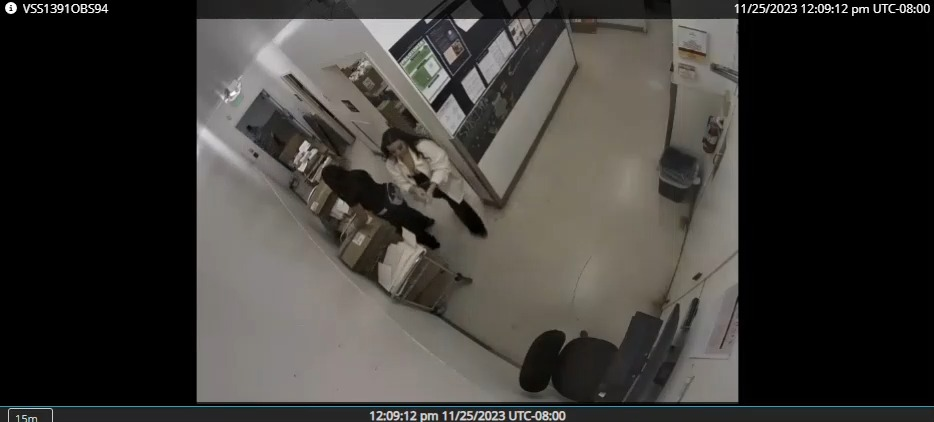gloves: (408, 188, 450, 208)
